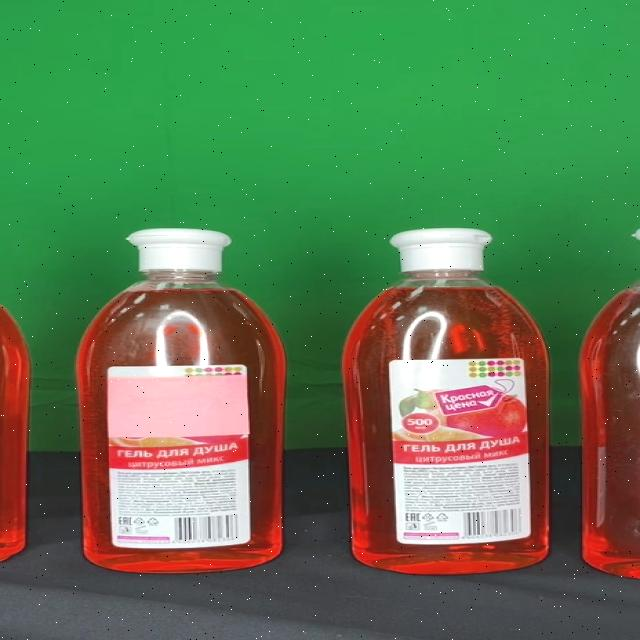Bottle: (77, 227, 286, 574), (344, 228, 547, 576)
Cap: (126, 228, 230, 272), (388, 228, 492, 270)
